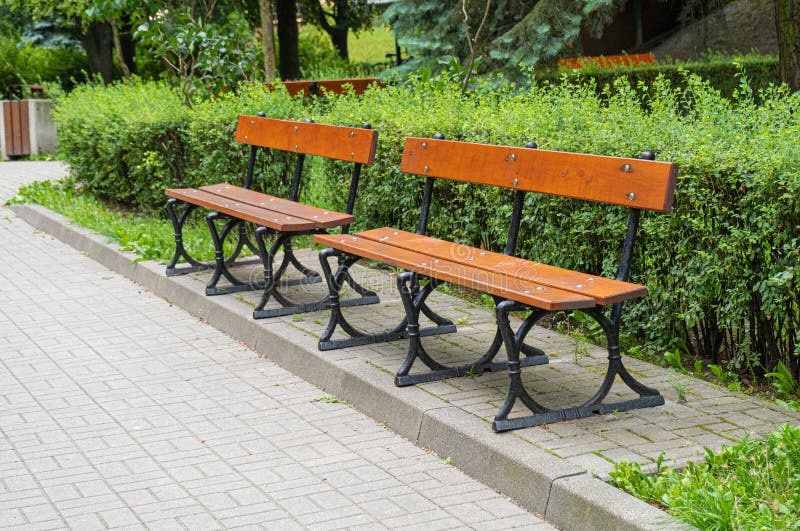Chair: (348, 125, 668, 434), (166, 113, 370, 323)
